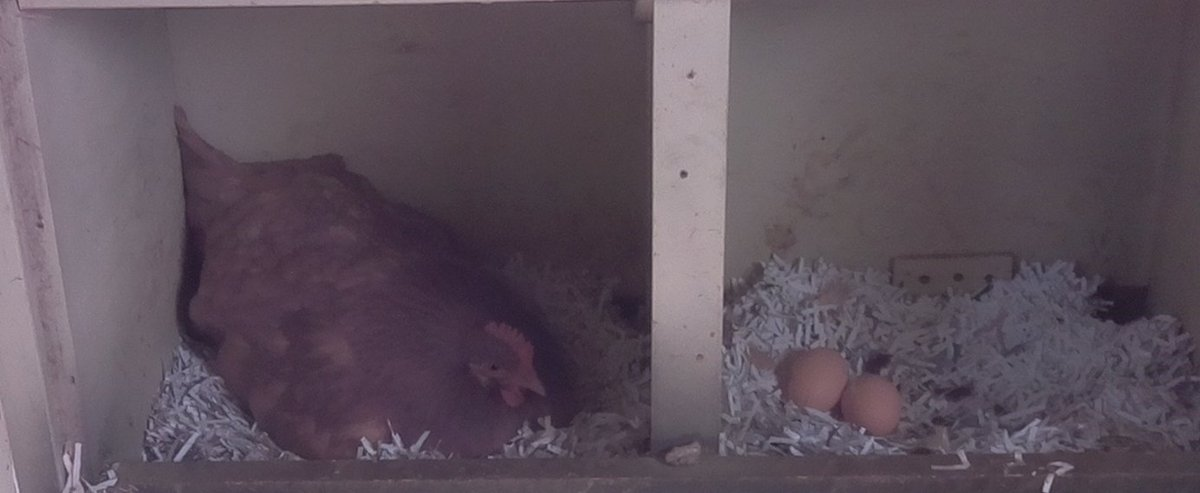egg: (783, 342, 851, 420), (843, 372, 909, 442)
hen: (168, 106, 593, 457)
